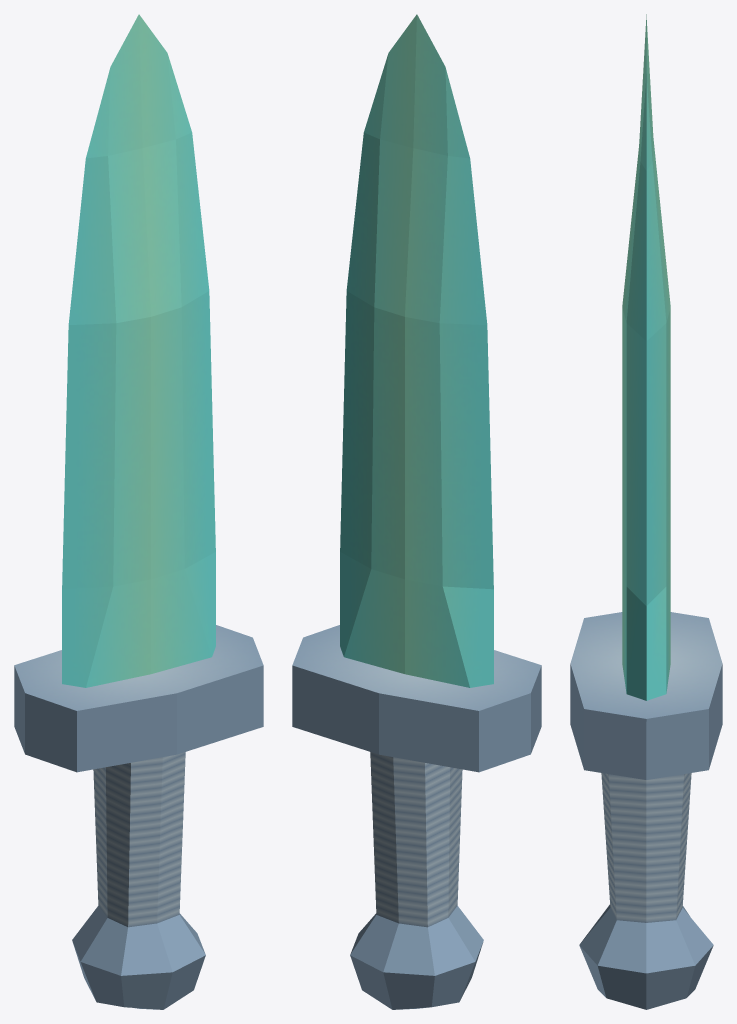
File: knife.fbx
3 views of the same model, side by side, from view 1: azimuth 30°, elevation 25°; view 2: azimuth 150°, elevation 25°; view 3: azimuth 270°, elevation 25° (orthographic).
Parts seen in each view (by area): view 1: Knife; view 2: Knife; view 3: Knife.
Part boxes in pixels (x1,y1,x2,y2): Knife: (14,14,263,1009); Knife: (292,14,541,1009); Knife: (570,14,722,1009).
Bounding box in the file's own units: 16.21 × 67.65 × 9.4.
1 material, 1 textured.
